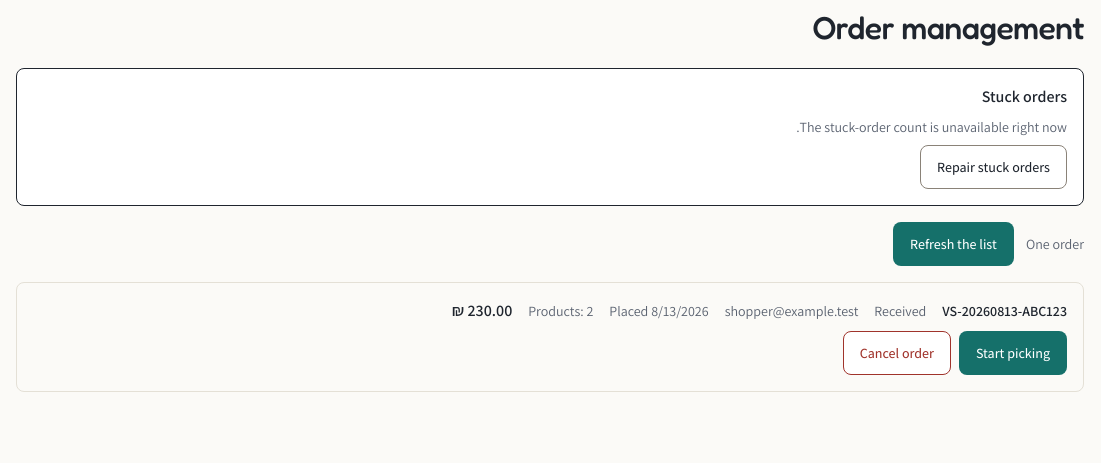
Test: moving an order › reports the move, and says when stock came back
Click the button "Cancel order": click(897, 353) left=843, top=331, right=951, bottom=375
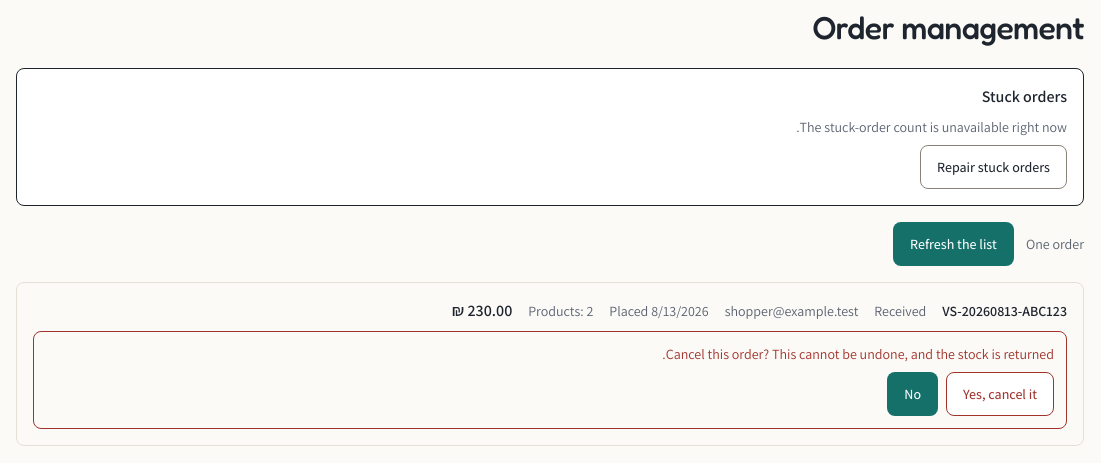
Click the button "Yes, cancel it": click(1000, 394) left=946, top=372, right=1054, bottom=416
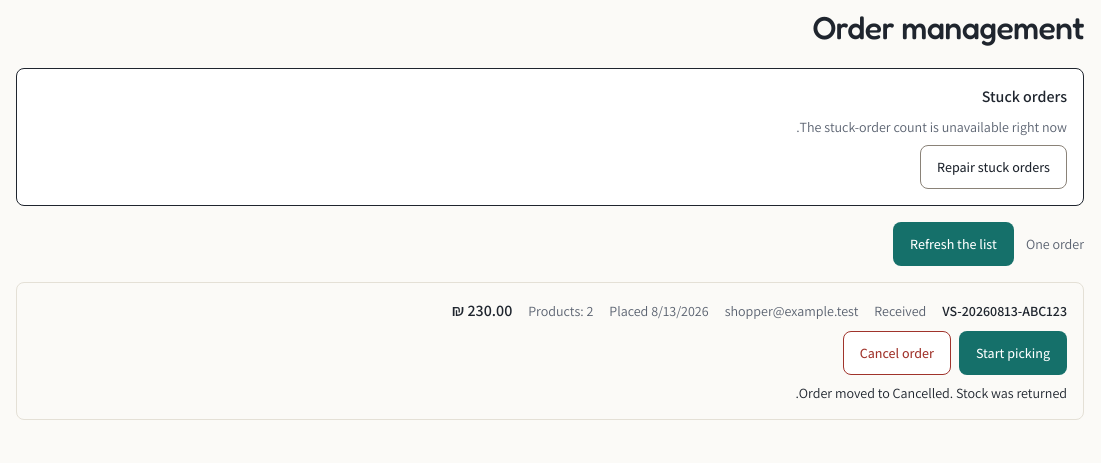
Result: the text "Order moved to Cancelled. Stock was returned." is shown at left=796, top=384, right=1067, bottom=402
